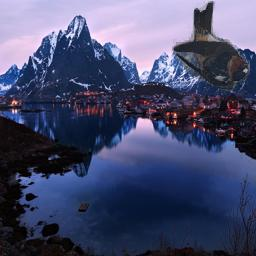Swallow: (172, 2, 250, 93)
